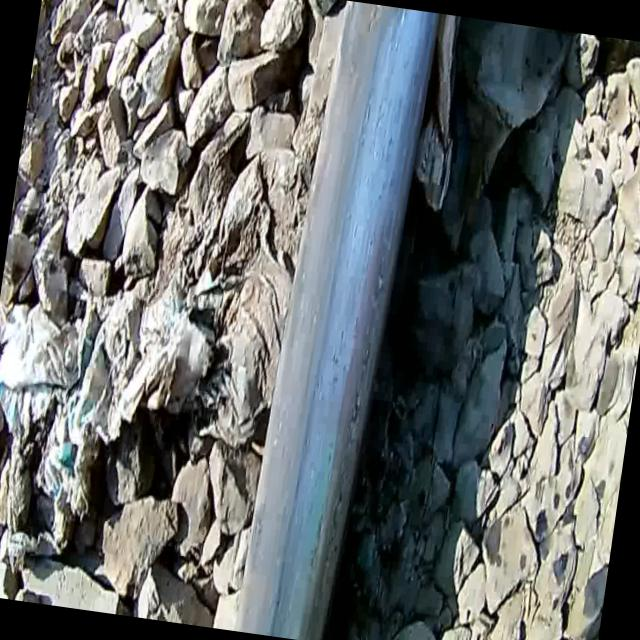Squats: (213, 0, 466, 640)
